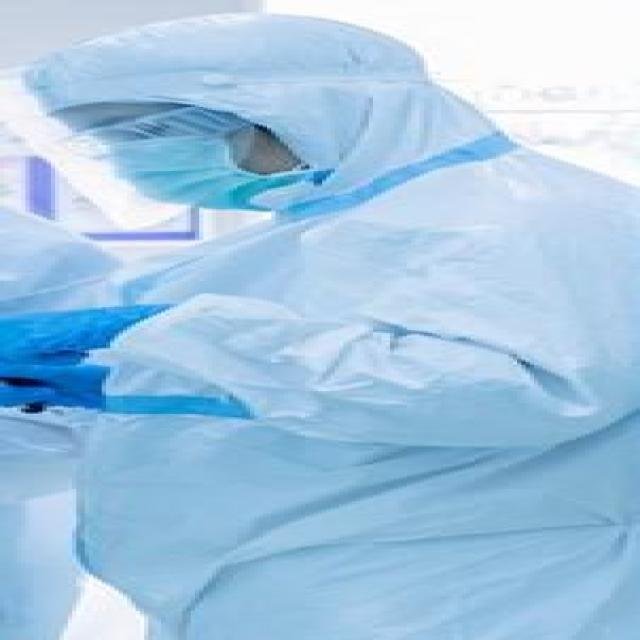Coverall: (4, 16, 640, 633)
Gloves: (0, 301, 212, 428)
Goggles: (47, 103, 297, 164)
Mask: (81, 139, 314, 221)
